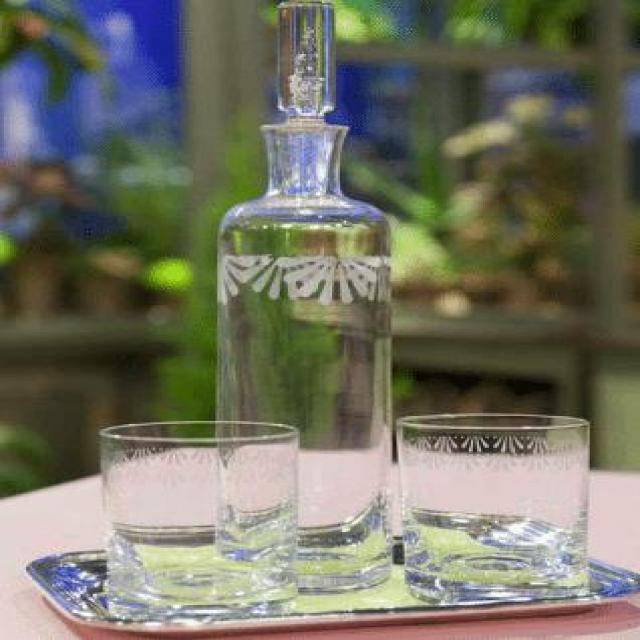non-organic waste: (385, 412, 607, 608)
